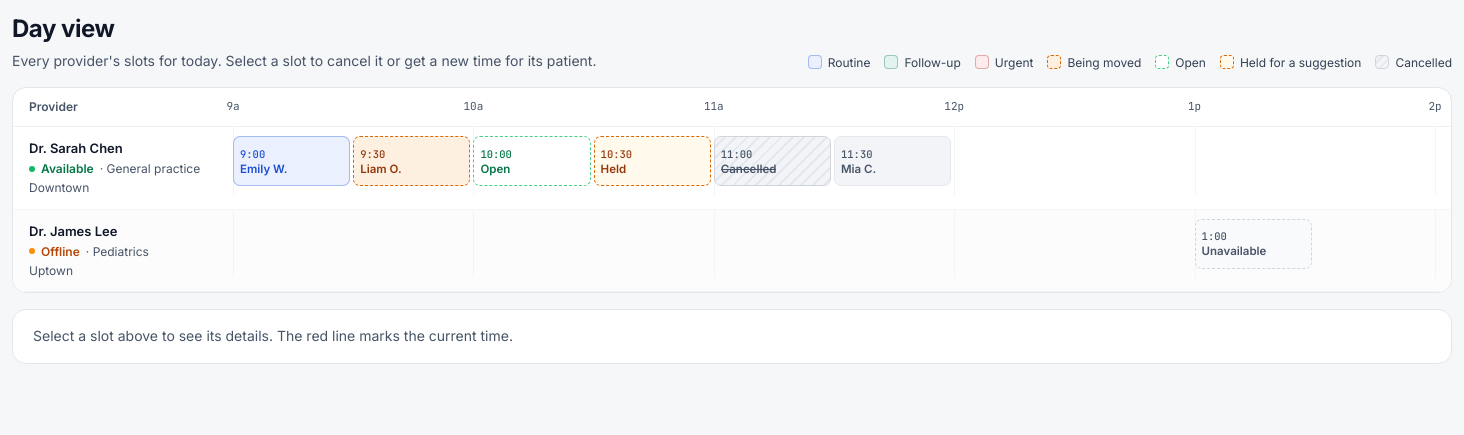
Test: DayView › no "Suggest new time" for a pending or completed appointment; no cancel for a cancelled slot
The image size is (1464, 435).
Click the button with aria-label "9:30 AM" at (412, 161), box [353,136,470,186]
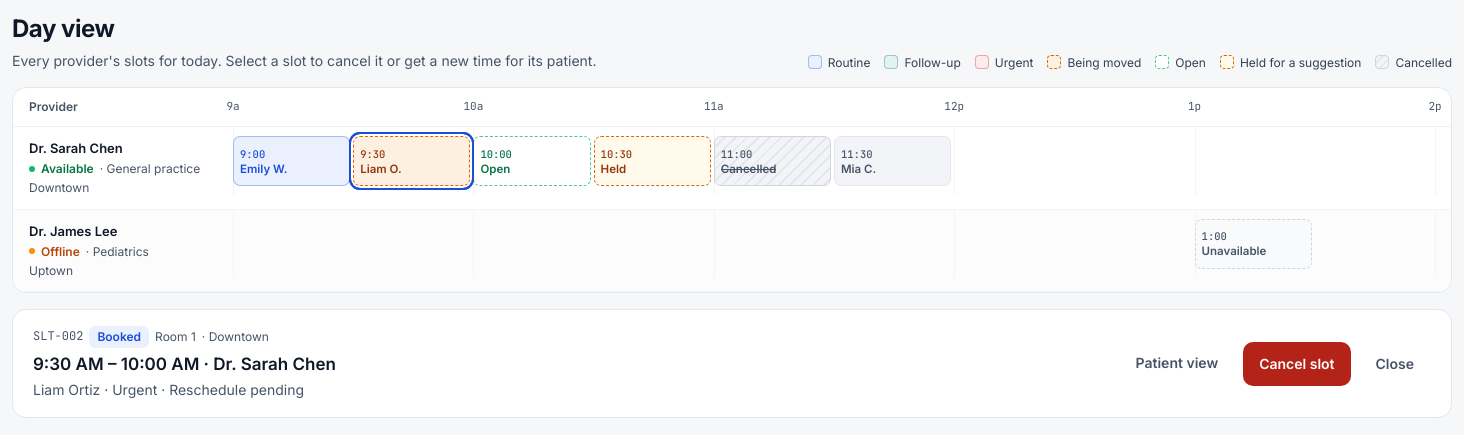
Click the button with aria-label "11:30 AM" at (893, 161), box [834,136,951,186]
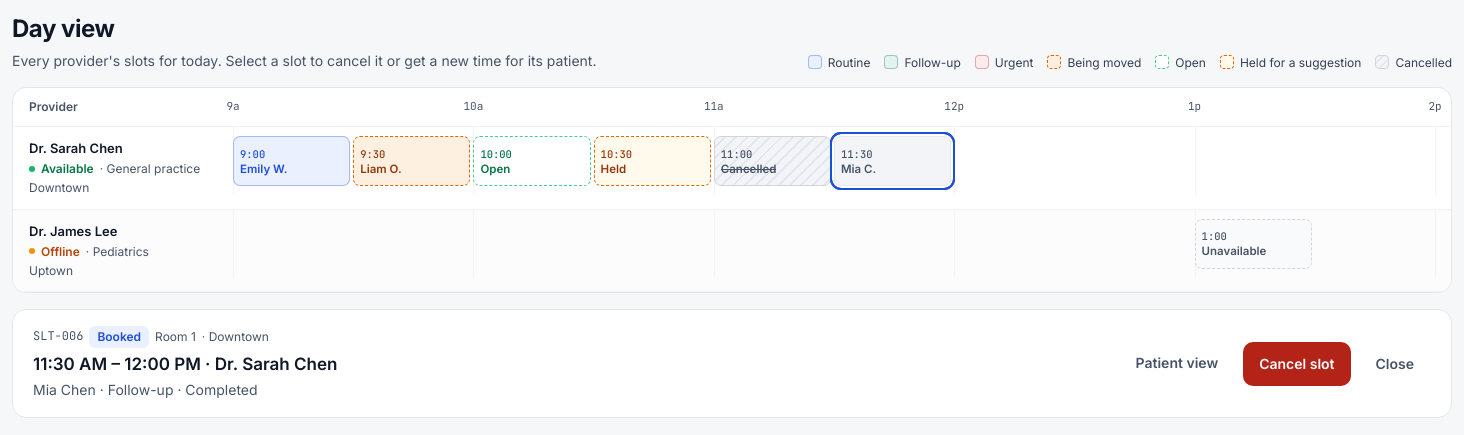
Click the button with aria-label "11:00 AM" at (772, 161), box [714,136,831,186]
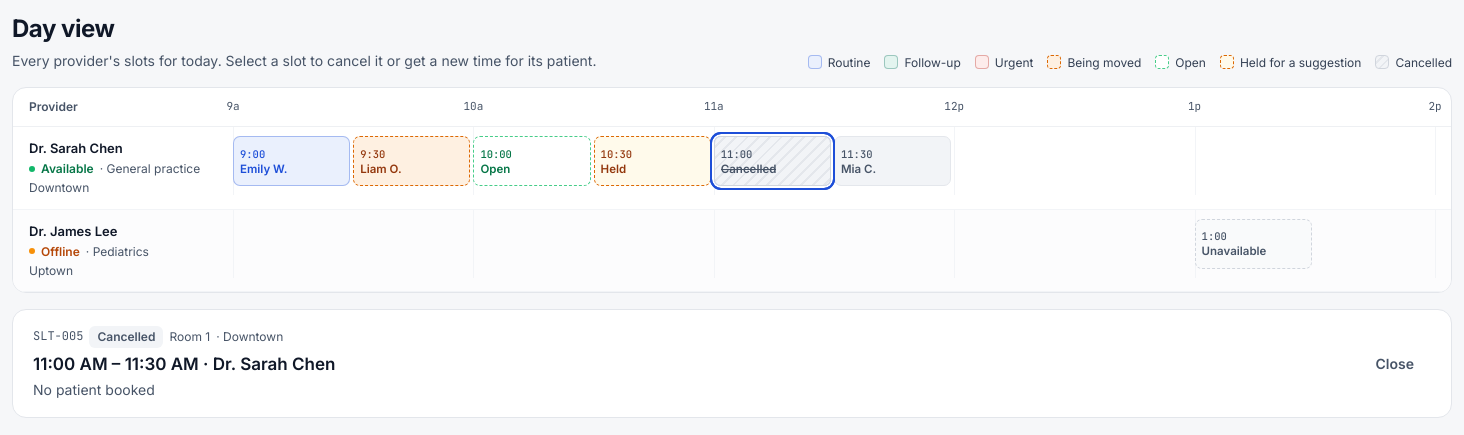
Expected: the button "Cancel slot" is gone
Click the button with aria-label "10:30 AM" at (652, 161), box [594,136,711,186]
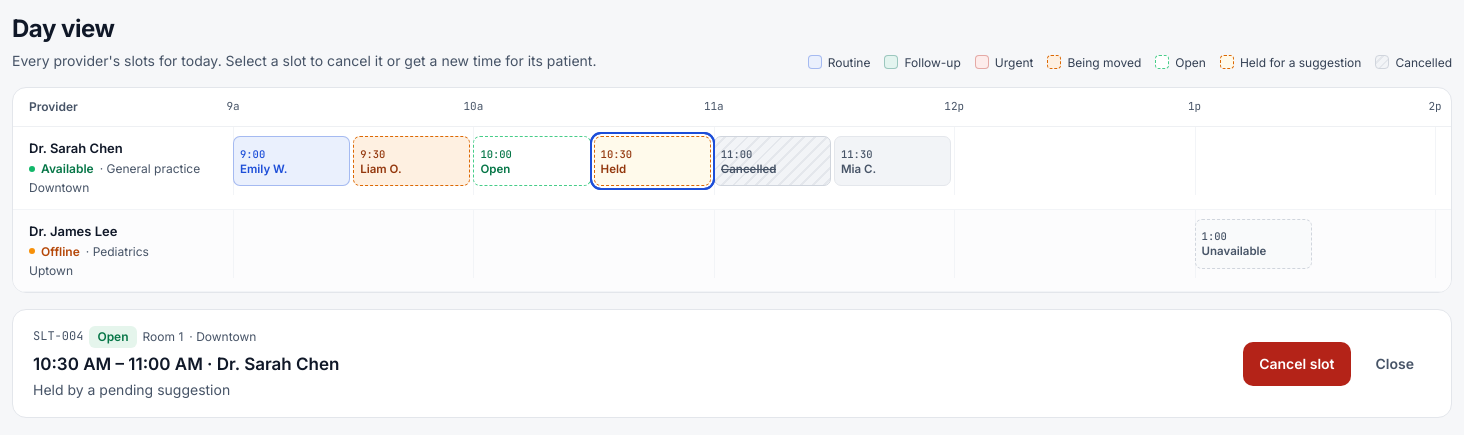
Expected: the text "Held by a pending suggestion" is shown, [33,381,230,398]
